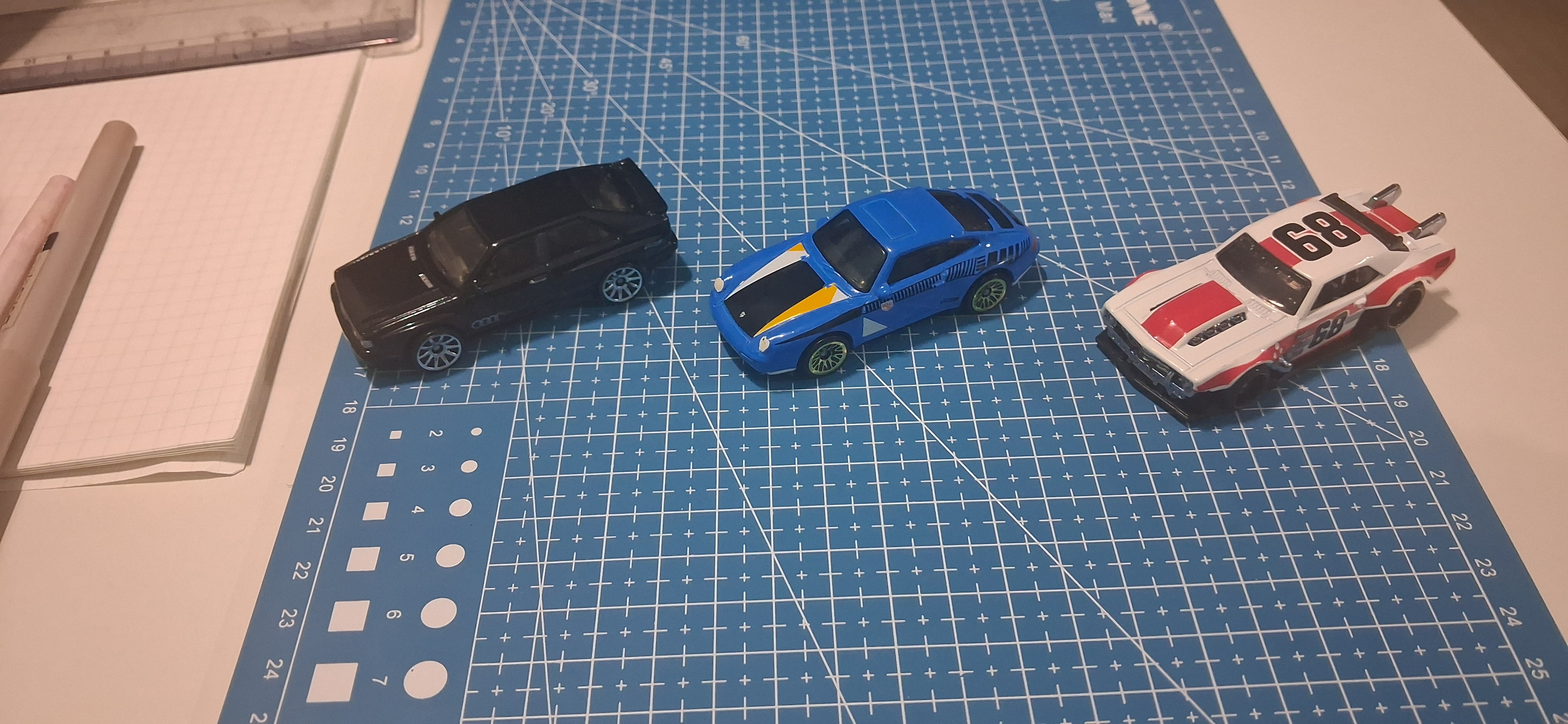Audi_Quattro: (313, 111, 683, 411)
Camaro: (1083, 125, 1470, 478)
Porsche_Carrera: (694, 123, 1045, 445)
